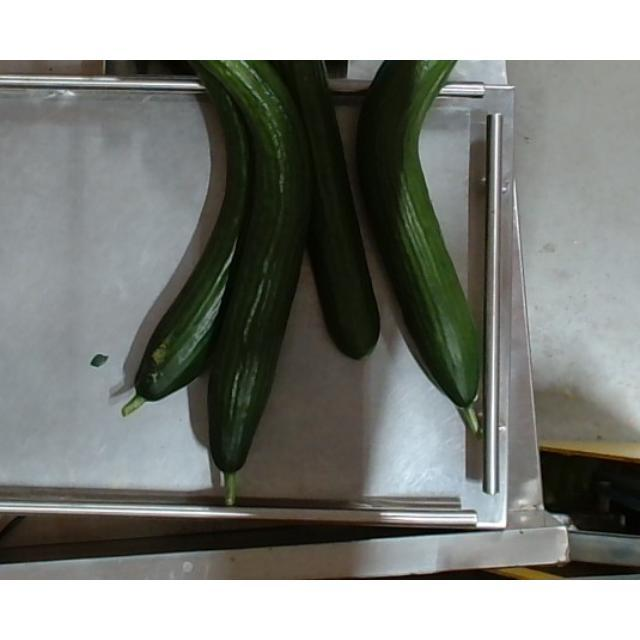cucumber: (196, 61, 310, 506), (121, 60, 255, 420), (354, 60, 482, 436), (268, 60, 379, 364)
